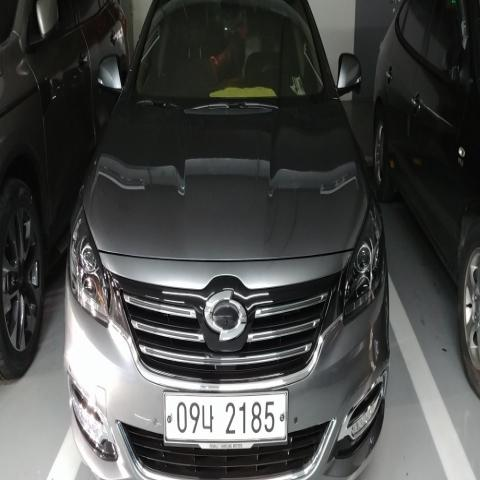LP: (160, 382, 291, 454)
